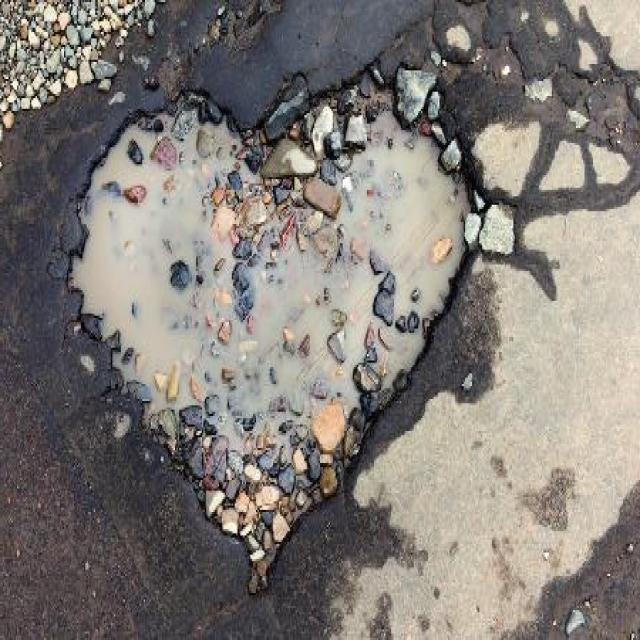Pothole: (65, 57, 490, 595)
